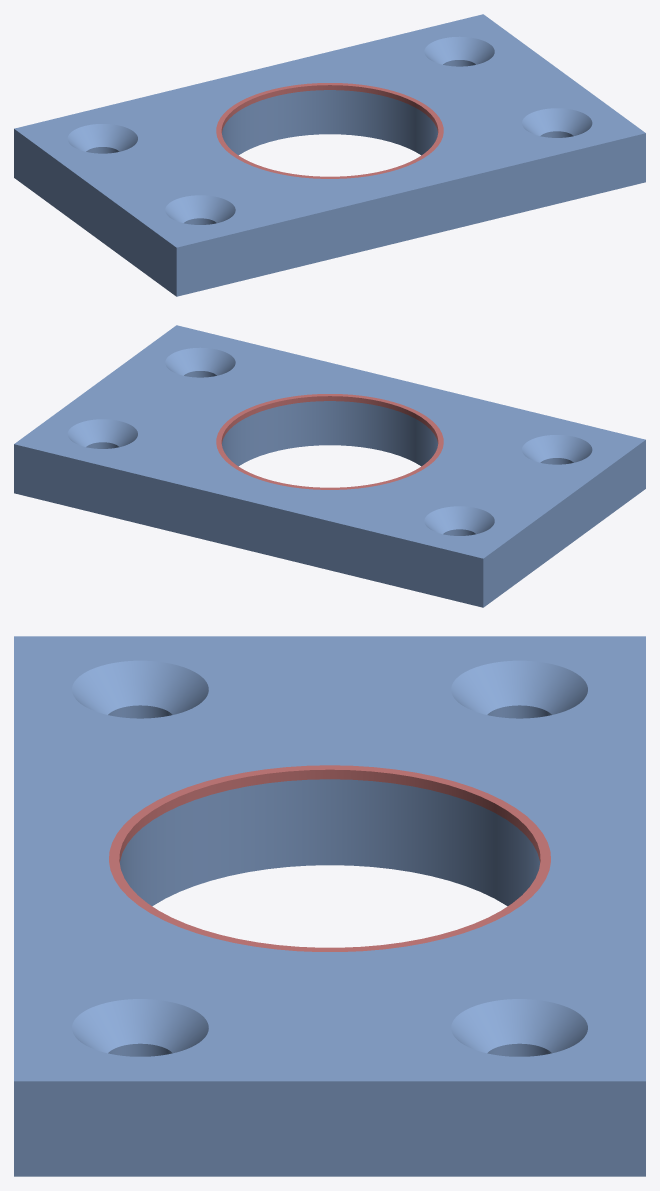
Rendered from step_06.glb.
3 views of the same model, one above another, from view 1: azimuth 30°, elevation 25°; view 2: azimuth 150°, elevation 25°; view 3: azimuth 270°, elevation 25° (orthographic). The views are drawn at different scales.
Parts seen in each view (by area): view 1: part__annotation plate, removed__annotation plate; view 2: part__annotation plate, removed__annotation plate; view 3: part__annotation plate, removed__annotation plate.
Part boxes in pixels (x1,y1,x2,y2): part__annotation plate: (14, 14, 645, 296); removed__annotation plate: (216, 83, 443, 178); part__annotation plate: (14, 325, 645, 607); removed__annotation plate: (216, 394, 443, 489); part__annotation plate: (14, 636, 645, 1176); removed__annotation plate: (109, 765, 550, 951).
Bounding box in the file's own units: 100 × 10 × 60.
